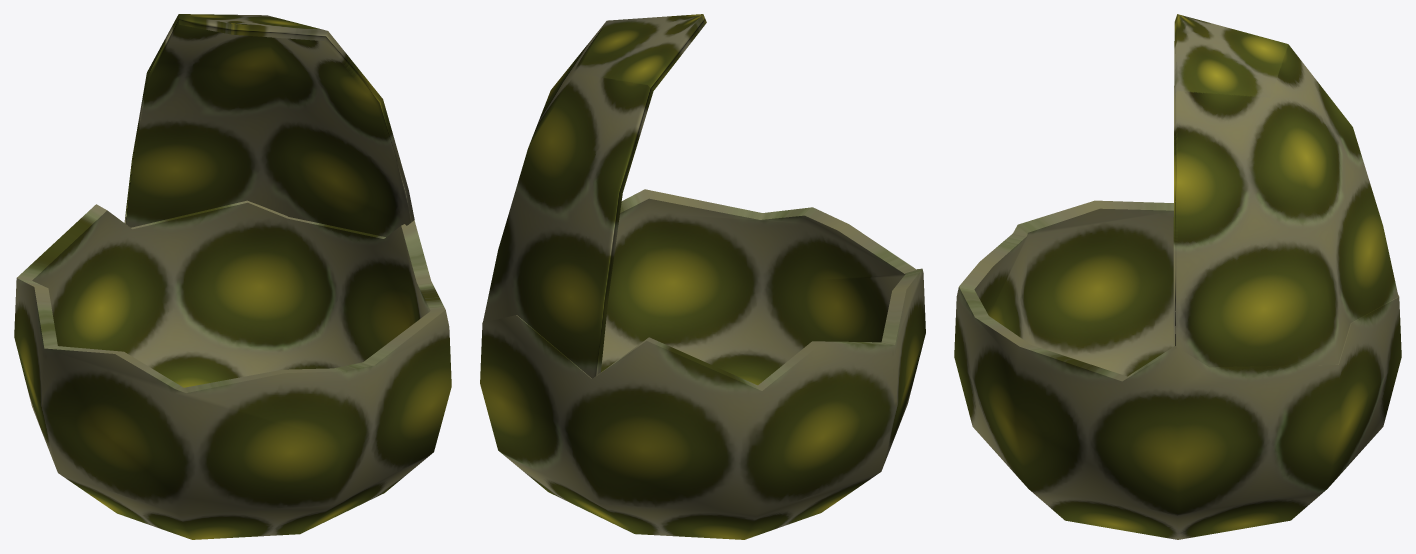
The model's file is HeadBirdNestlingEggBroken.fbx.
The picture shows the model from 3 angles, left to right: view 1: azimuth 30°, elevation 25°; view 2: azimuth 150°, elevation 25°; view 3: azimuth 270°, elevation 25°; orthographic projection.
Visible parts, largest first — view 1: Egg.002, Egg.003; view 2: Egg.002, Egg.003; view 3: Egg.002, Egg.003.
Part boxes in pixels (box(x1,y1,x2,y2)): Egg.002: box(14, 200, 451, 539); Egg.003: box(124, 14, 414, 236); Egg.002: box(480, 189, 925, 539); Egg.003: box(483, 14, 706, 378); Egg.002: box(954, 200, 1401, 539); Egg.003: box(1173, 14, 1398, 367).
Bounding box in the file's own units: 2.12 × 2.55 × 2.12.
